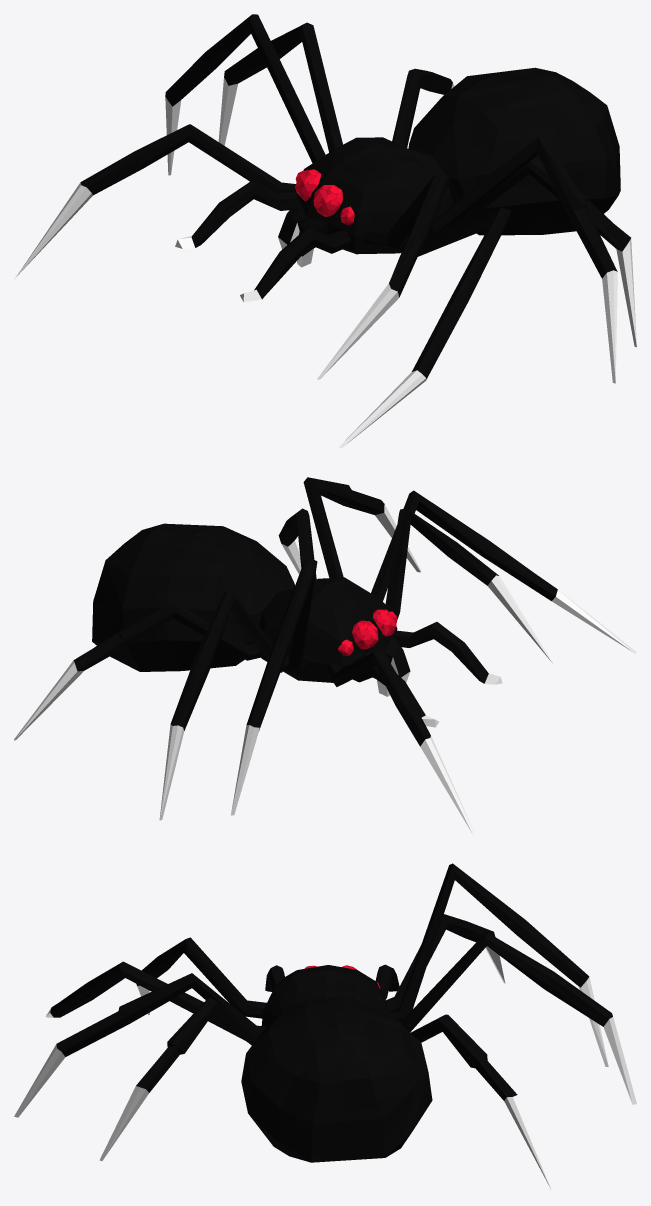
Rendered from spiderWalking8.obj.
The picture shows the model from 3 angles, top to bottom: view 1: azimuth 30°, elevation 25°; view 2: azimuth 150°, elevation 25°; view 3: azimuth 270°, elevation 25°; orthographic projection. The views are drawn at different scales.
Parts seen in each view (by area): view 1: Cube.001_Cube.002; view 2: Cube.001_Cube.002; view 3: Cube.001_Cube.002.
Part boxes in pixels (x1,y1,x2,y2): Cube.001_Cube.002: (15, 14, 636, 448); Cube.001_Cube.002: (14, 477, 636, 834); Cube.001_Cube.002: (14, 863, 636, 1191).
Size of the model in its own units: 28.71 by 12.97 by 34.25.
